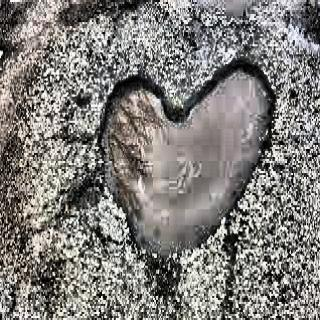pothole: (96, 53, 282, 280)
